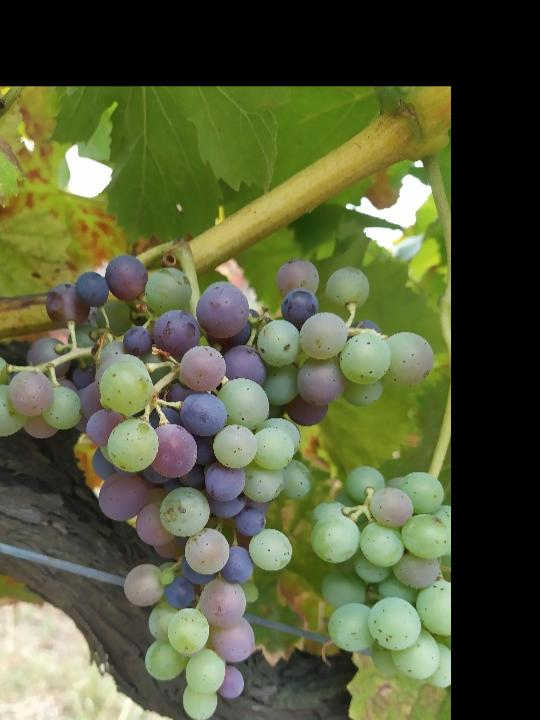grape: (0, 252, 439, 720)
